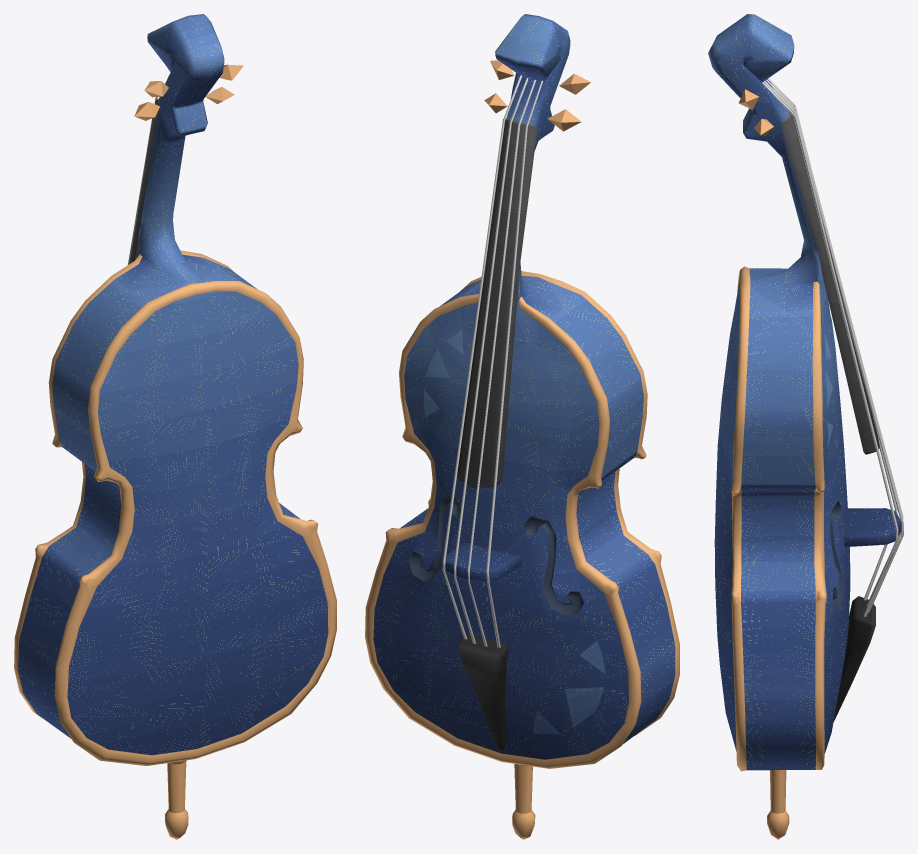
Rendered from CharSkyKid_Prop_AP23CelloBasic.glb.
3 views of the same model, side by side, from view 1: azimuth 30°, elevation 25°; view 2: azimuth 150°, elevation 25°; view 3: azimuth 270°, elevation 25° (orthographic). The views are drawn at different scales.
Visible parts, largest first — view 1: CharSkyKid_Prop_AP23CelloBasic; view 2: CharSkyKid_Prop_AP23CelloBasic; view 3: CharSkyKid_Prop_AP23CelloBasic.
Part boxes in pixels (box(x1,y1,x2,y2)): CharSkyKid_Prop_AP23CelloBasic: box(14, 14, 336, 839); CharSkyKid_Prop_AP23CelloBasic: box(365, 14, 679, 839); CharSkyKid_Prop_AP23CelloBasic: box(708, 14, 903, 839).
Bounding box in the file's own units: 4.77 × 13.47 × 2.92.
Materials: 1 (1 with a texture image).
